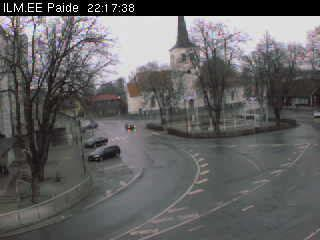car: (88, 144, 120, 162), (83, 135, 109, 149), (81, 120, 99, 130), (124, 121, 137, 132)
